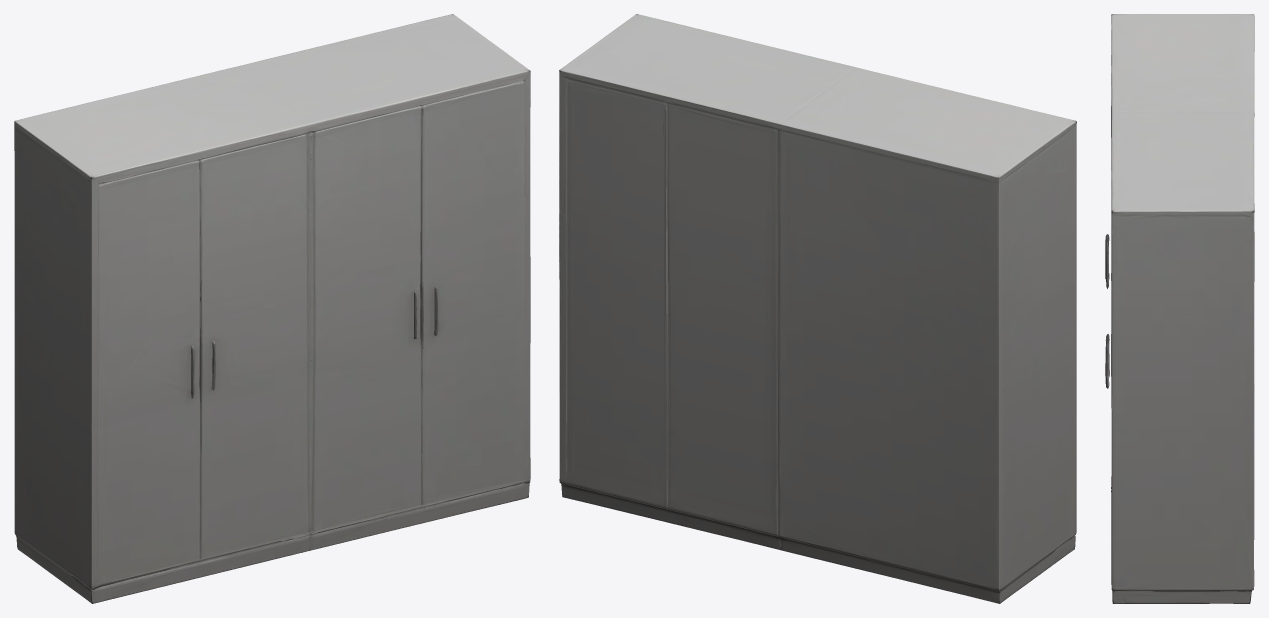
File: cabinet_storage_4door_gray.glb
The picture shows the model from 3 angles, left to right: view 1: azimuth 30°, elevation 25°; view 2: azimuth 150°, elevation 25°; view 3: azimuth 270°, elevation 25°; orthographic projection. The views are drawn at different scales.
Parts seen in each view (by area): view 1: geometry_0; view 2: geometry_0; view 3: geometry_0.
Part boxes in pixels (left/top/right/bottom): geometry_0: left=14, top=14, right=530, bottom=603; geometry_0: left=559, top=14, right=1076, bottom=603; geometry_0: left=1105, top=14, right=1254, bottom=603.
Bounding box in the file's own units: 1 × 0.9303 × 0.3198.
Materials: 1 (1 with a texture image).
